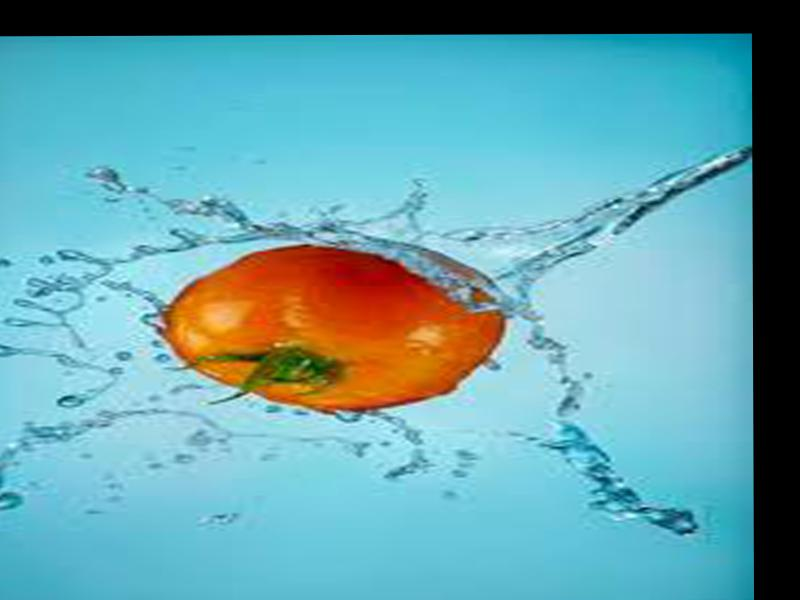Tomato: (160, 241, 504, 410)
